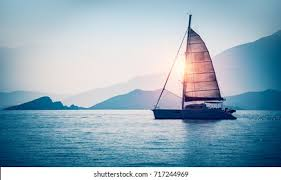boat: (152, 13, 237, 120)
